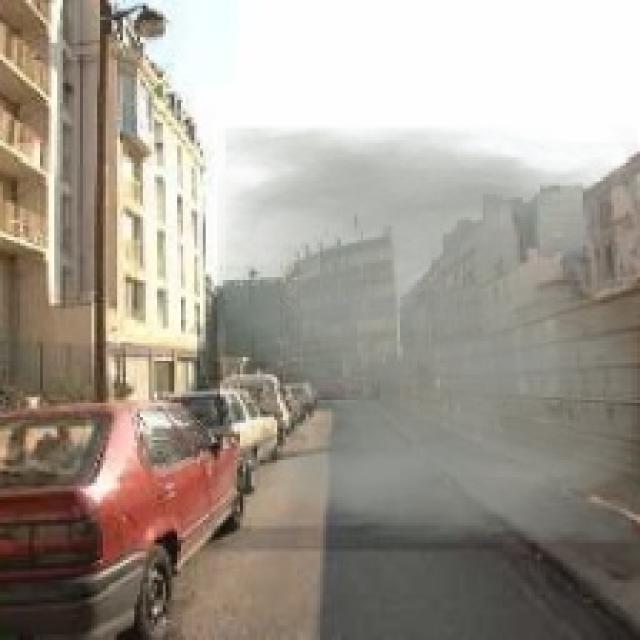Smoke: (217, 126, 637, 543)
